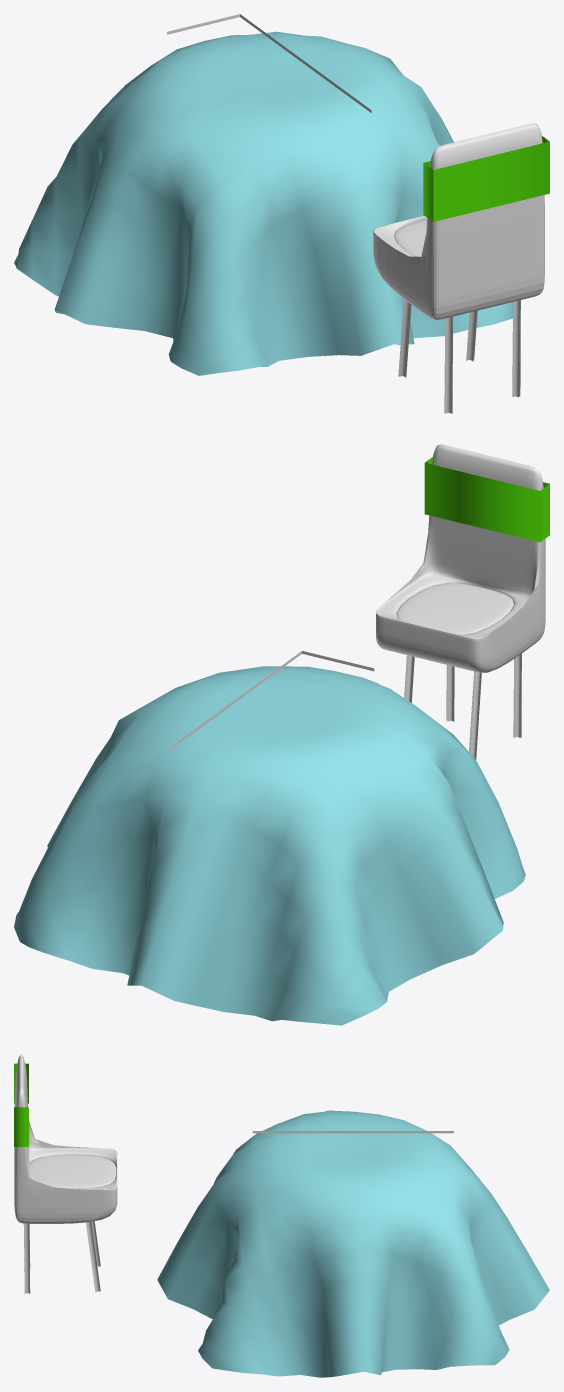
Rendered from tableTest3.gltf.
3 views of the same model, one above another, from view 1: azimuth 30°, elevation 25°; view 2: azimuth 150°, elevation 25°; view 3: azimuth 270°, elevation 25° (orthographic). The views are drawn at different scales.
Parts seen in each view (by area): view 1: TableCloth, Chair.001, Chairrunner, TableRunner; view 2: TableCloth, Chair.001, Chairrunner, TableRunner; view 3: TableCloth, Chair.001, Chairrunner, TableRunner.
Boxes of the visible parts, bbox=[...] form: TableCloth: bbox=[14, 31, 512, 375]; Chair.001: bbox=[373, 123, 544, 413]; Chairrunner: bbox=[423, 136, 549, 221]; TableRunner: bbox=[167, 14, 371, 112]; TableCloth: bbox=[14, 666, 525, 1025]; Chair.001: bbox=[376, 444, 545, 759]; Chairrunner: bbox=[424, 457, 549, 542]; TableRunner: bbox=[172, 651, 374, 748]; TableCloth: bbox=[157, 1110, 549, 1377]; Chair.001: bbox=[14, 1054, 117, 1293]; Chairrunner: bbox=[14, 1063, 28, 1146]; TableRunner: bbox=[252, 1131, 453, 1133].
Size of the model in its own units: 152 by 108 by 208.
